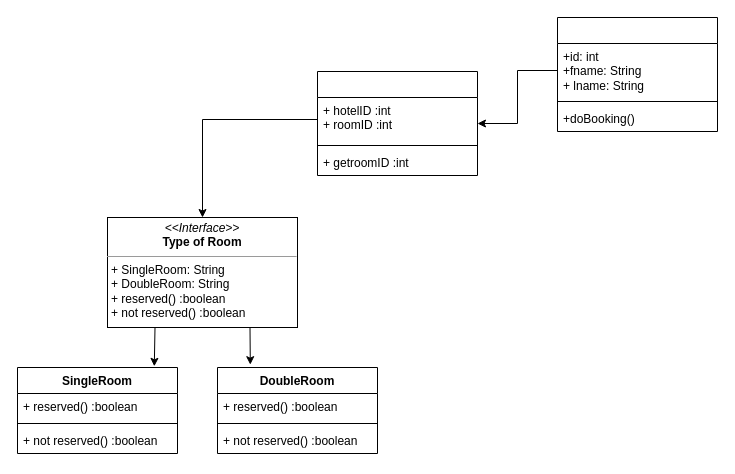
This 735x474 diagram has some shape labels left out. The shapes that lost their labels are listed below. From the top down, each one's box as (x1, y1, x2, y2) in pixels, then its label:
(556, 16, 718, 132): client
(316, 70, 478, 176): Booking
